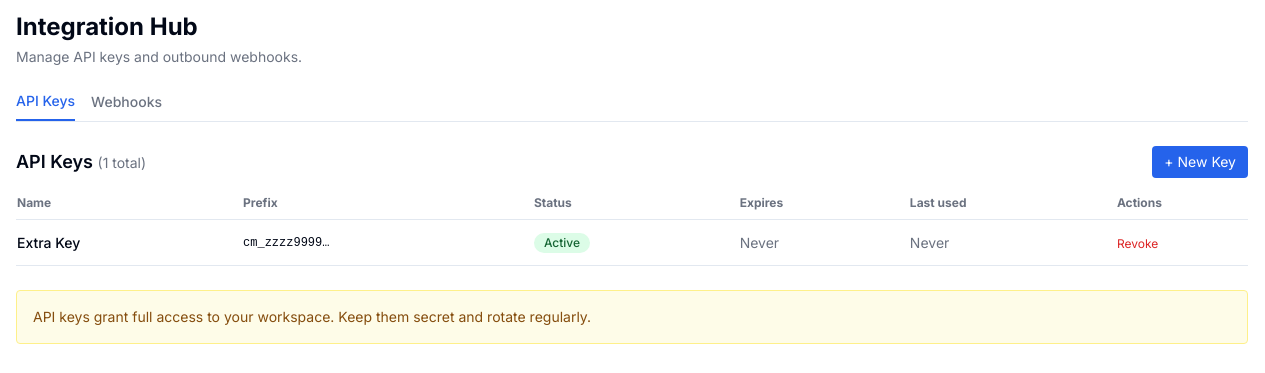
Test: IntegrationCenter — extra › empty webhooks state shown when list is empty
The image size is (1265, 373).
Click the button with test id "tab-webhooks" at (127,106), box 91,91 -> 162,121
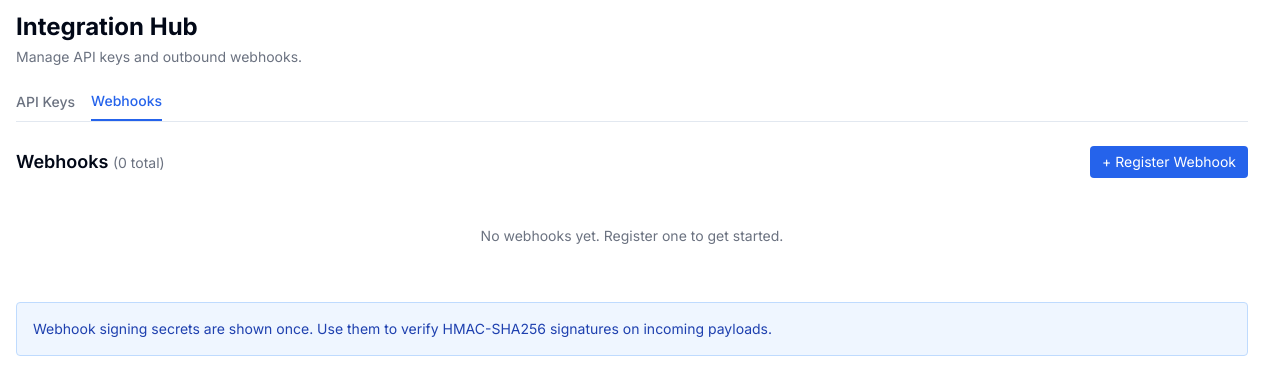
expect the text "No webhooks yet. Register one to get started." is shown: met, box 481,227 -> 783,244
